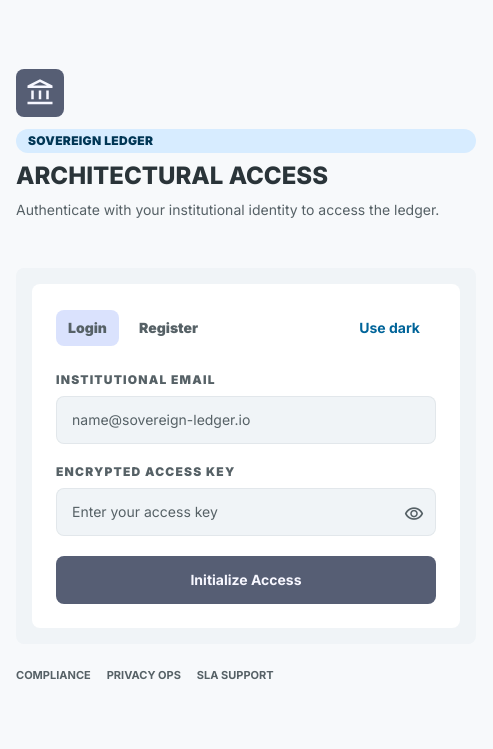
Test case: authentication pages › renders invalid credentials, rate-limit, and service-unavailable gateway states
Type "admin@example.com" into the field labelled "Institutional Email".
click(246, 420); type("admin@example.com")  # box [56, 396, 436, 444]
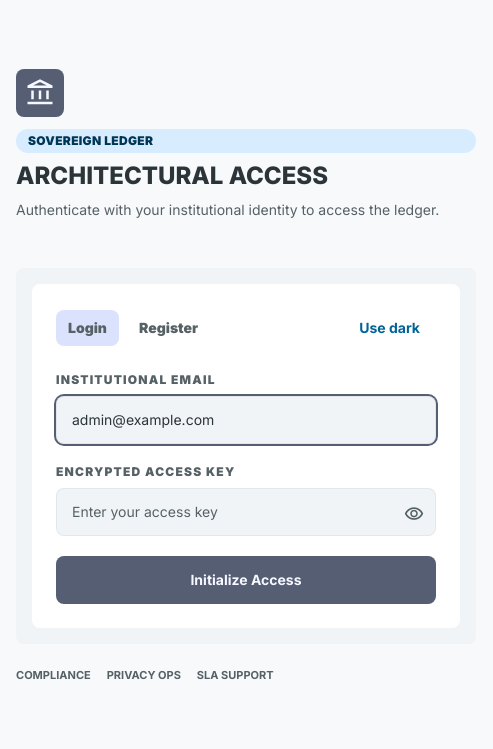
Type "secret-key" into the password field labelled "Encrypted Access Key".
click(246, 512); type("secret-key")  # box [56, 488, 436, 536]
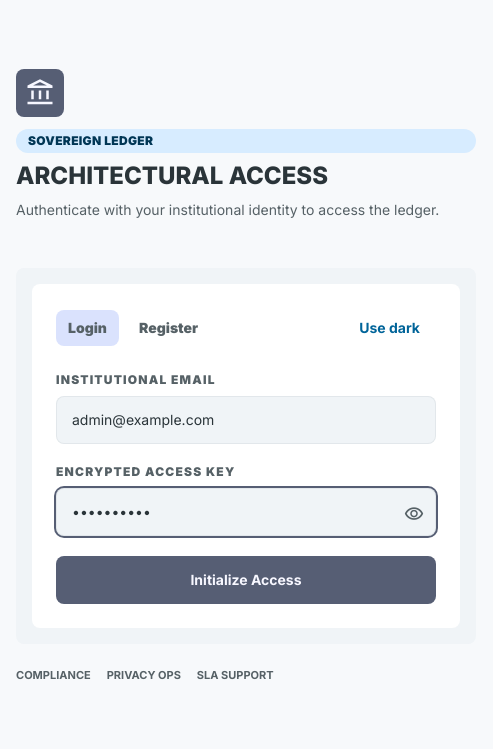
Click the button "Initialize Access".
click(246, 580)  # box [56, 556, 436, 604]
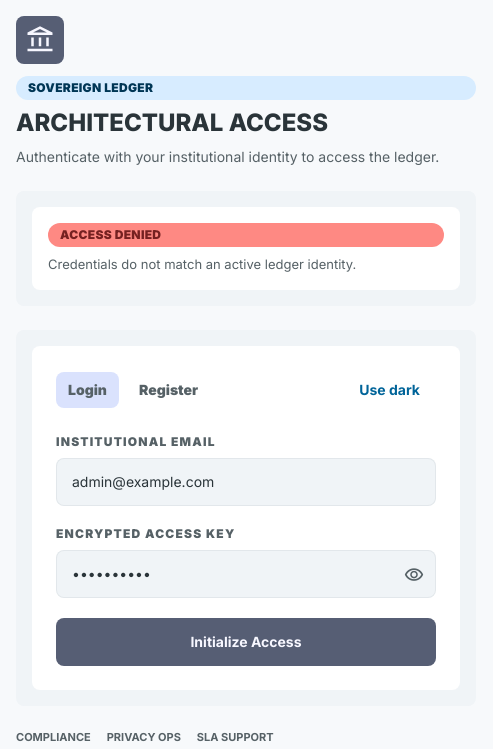
Check: the text "Credentials do not match an active ledger identity." is shown, box [48, 256, 356, 272]
Click the button "Initialize Access".
click(246, 642)  # box [56, 618, 436, 666]
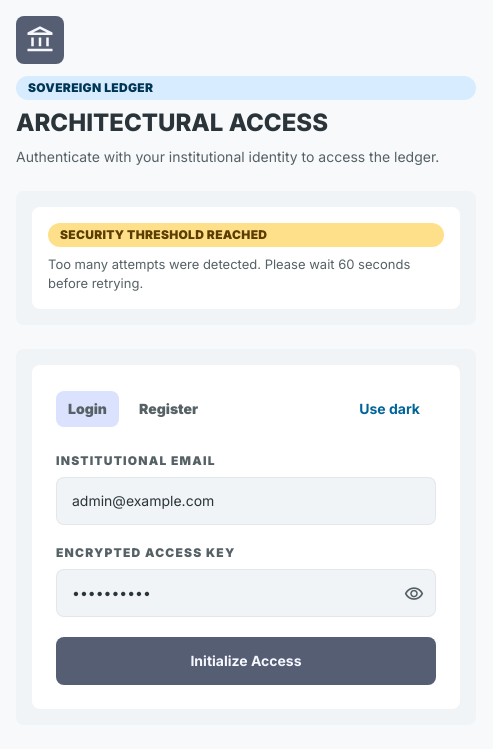
Check: the text "60 seconds" is shown, box [48, 256, 410, 291]
Click the button "Initialize Access".
click(246, 661)  # box [56, 637, 436, 685]
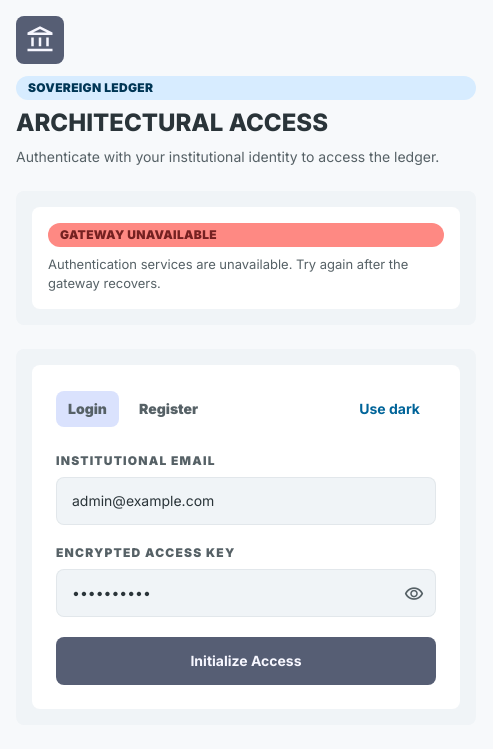
Check: the text "Authentication services are unavailable" is shown, box [48, 256, 408, 291]
